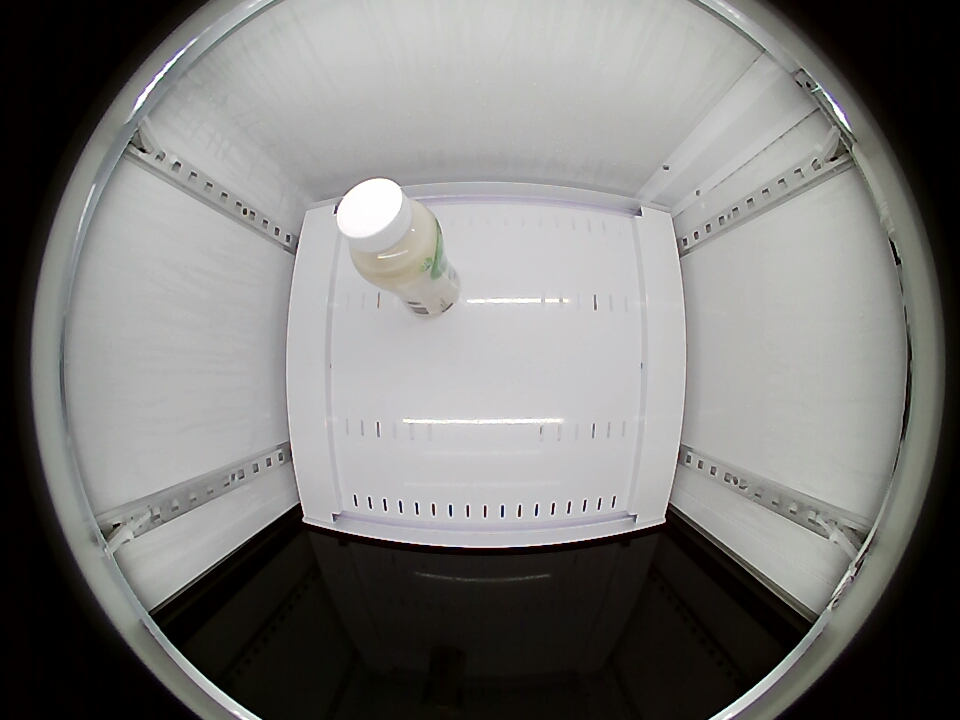yousuanru: (336, 178, 442, 286)
